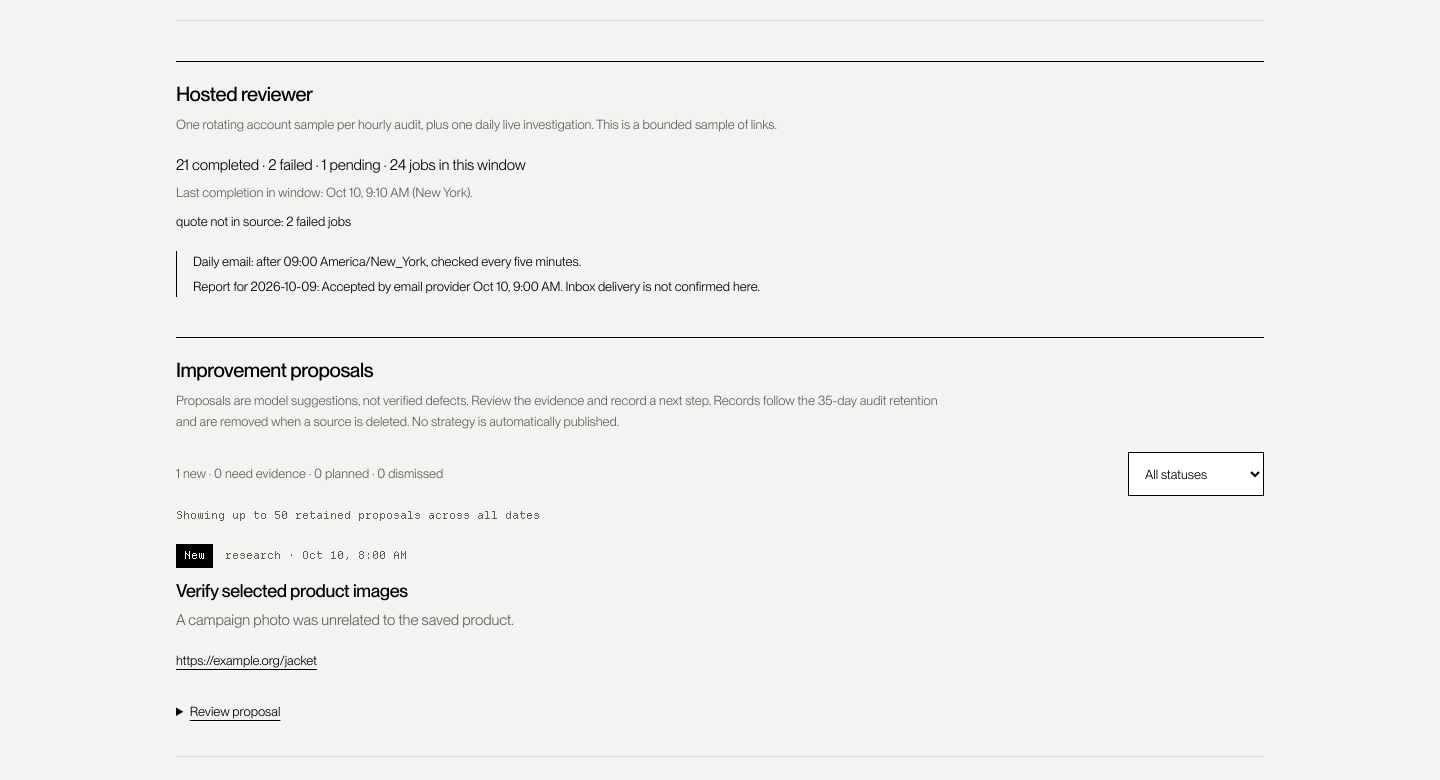
Test: keeps the review draft after a conflict and offers refresh
This screenshot has width=1440, height=780.
Later steps or results of the test are not shown.
(page scrolled)
expect the heading "Verify selected product images" is shown: met, box [176,580,408,601]
Click the heading "Review proposal" at x=235, y=711, box [190,704,280,719]
(page scrolled)
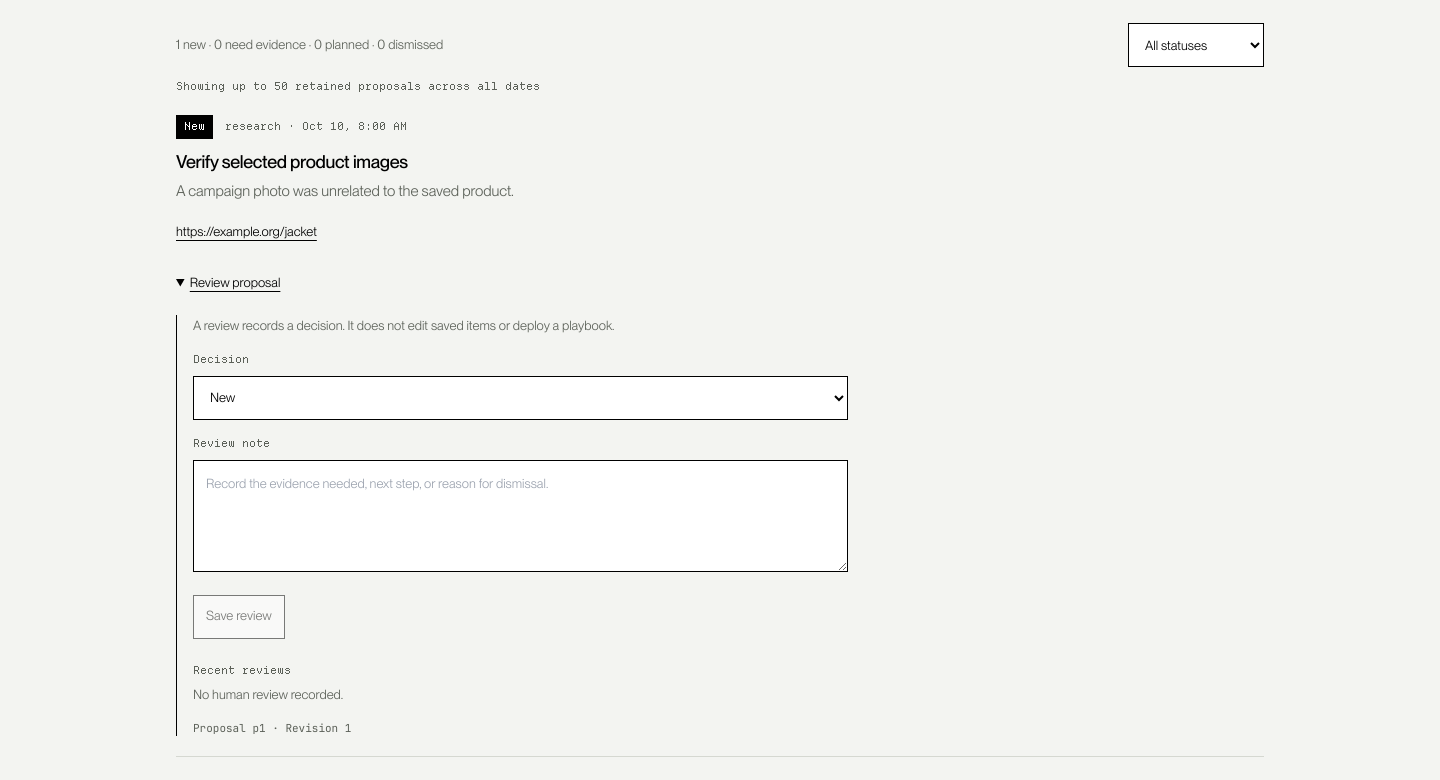
Replace the text in the text box labelled "Review note" with "Needs a labelled example." at x=520, y=516, box [193,460,848,572]
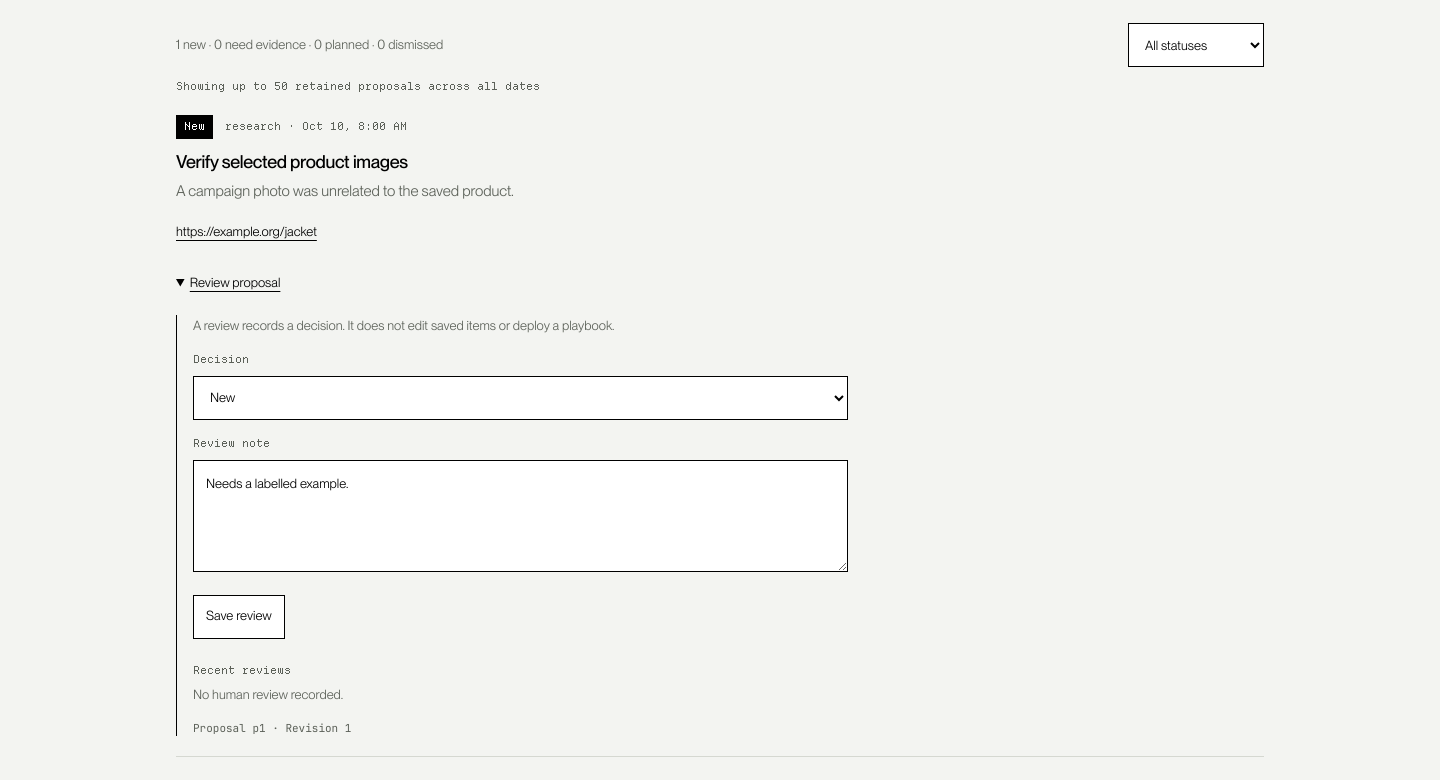
Click the button "Save review" at x=239, y=617, box [193,595,285,639]
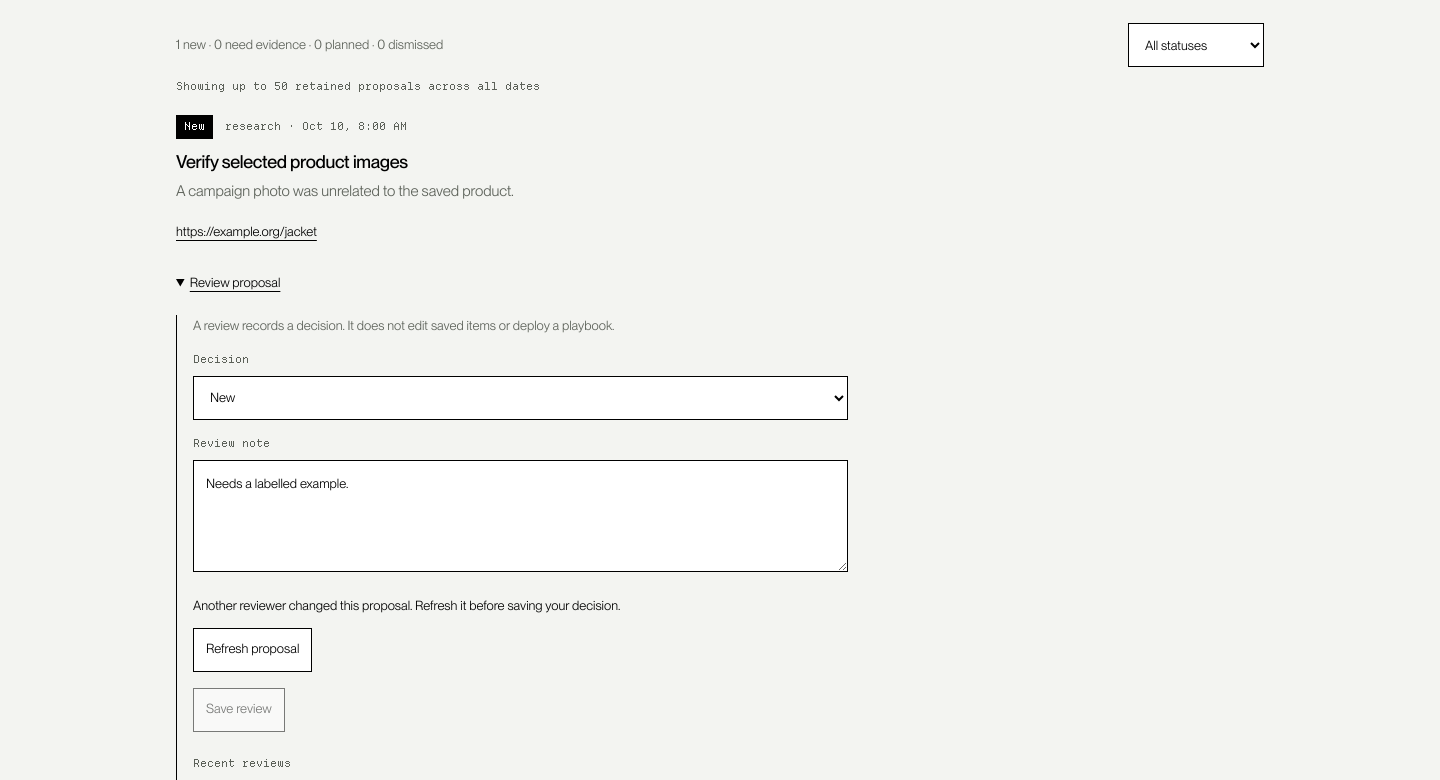
expect the text "Another reviewer changed this proposal" is shown: met, box [193,598,620,613]
expect the button "Refresh proposal" is shown: met
Click the button "Refresh proposal" at x=253, y=650, box [193,628,312,672]
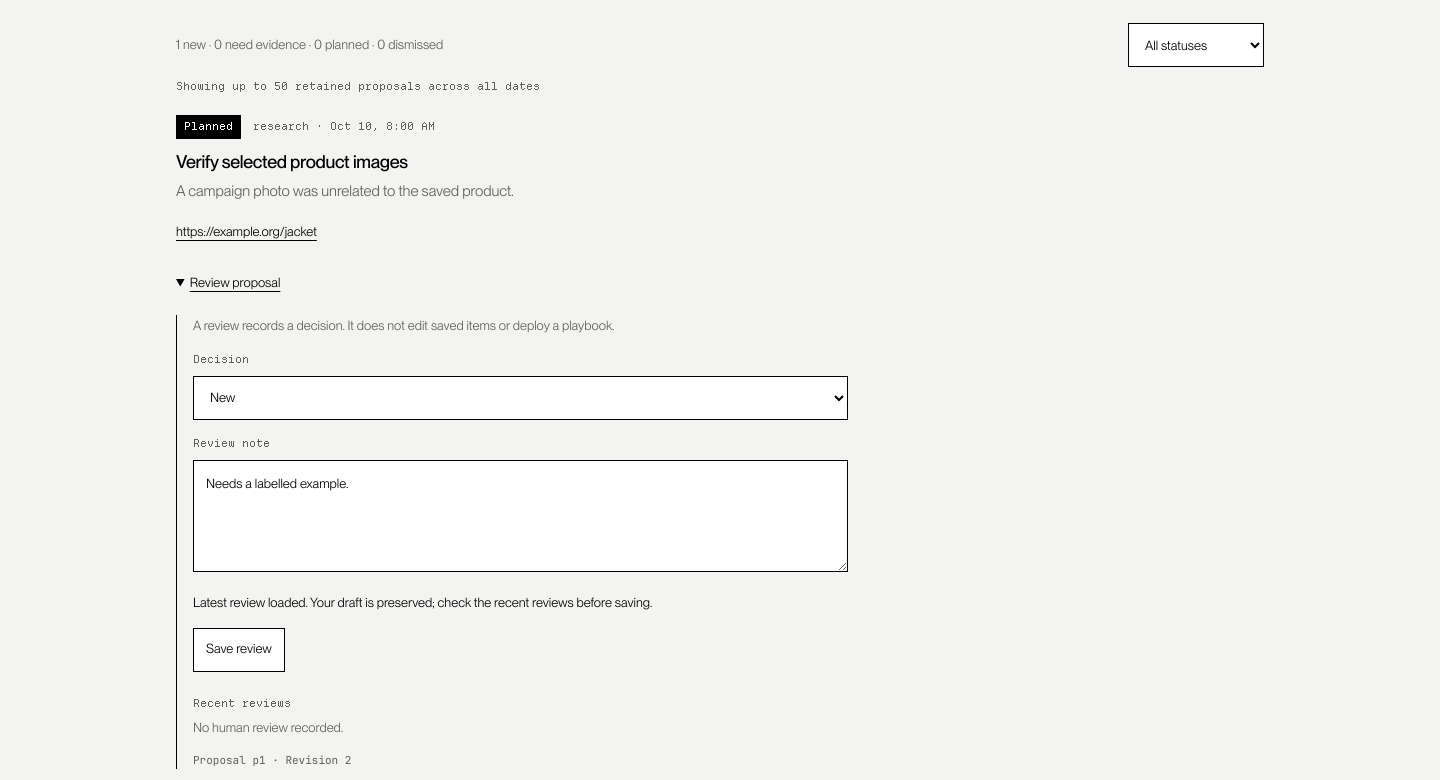
expect the button "Refresh proposal" is gone: met
